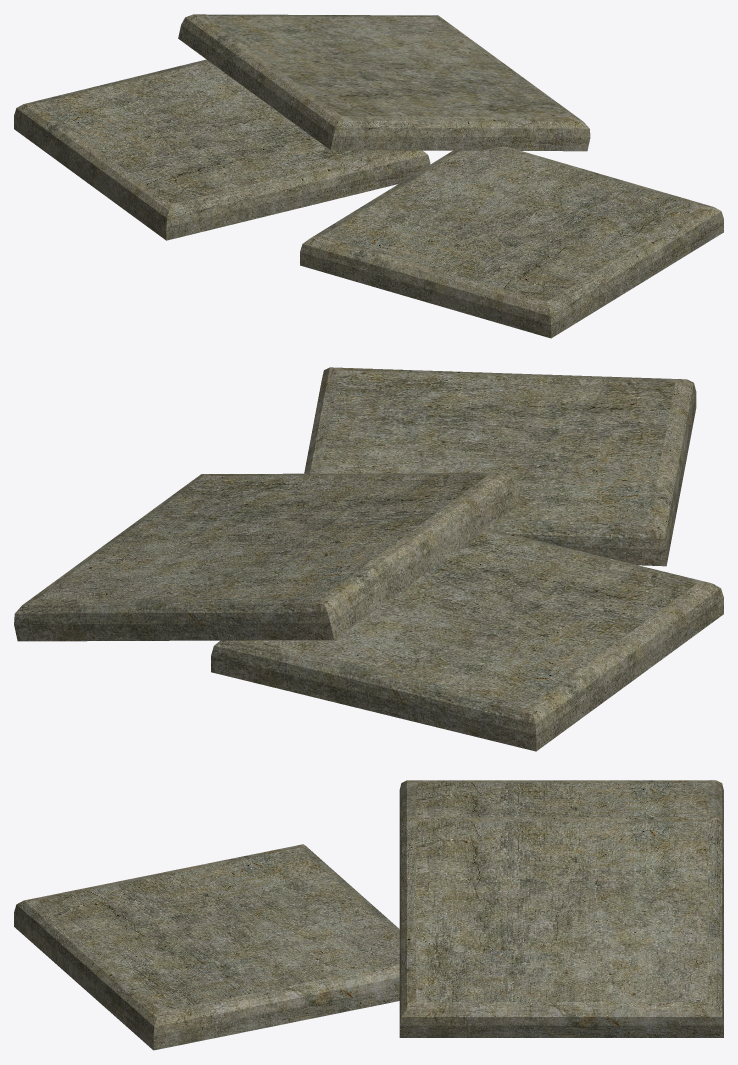
File: StoneTiles2.FBX
3 views of the same model, one above another, from view 1: azimuth 30°, elevation 25°; view 2: azimuth 150°, elevation 25°; view 3: azimuth 270°, elevation 25° (orthographic). The views are drawn at different scales.
Visible parts, largest first — view 1: Box004; view 2: Box004; view 3: Box004.
Boxes of the visible parts, left/top/right/bottom form: Box004: left=14, top=14, right=723, bottom=338; Box004: left=14, top=367, right=723, bottom=751; Box004: left=14, top=780, right=723, bottom=1050.
Bounding box in the file's own units: 22.87 × 4.41 × 29.89.
